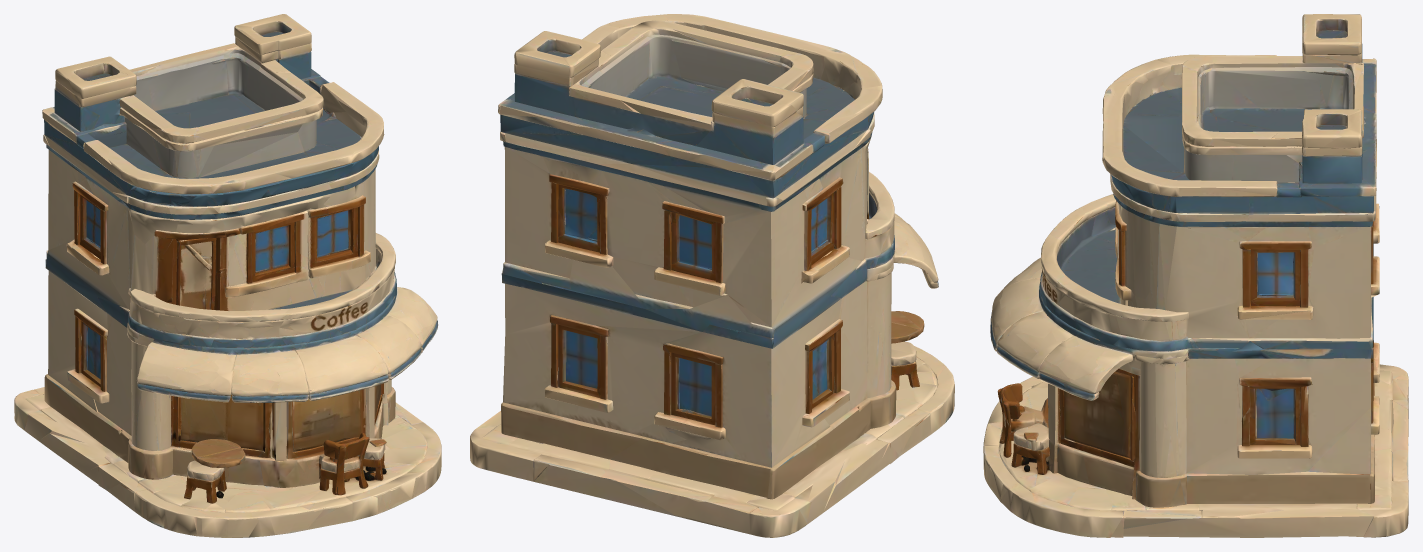
The model's file is upm_mv3pq2j62ir.glb.
3 views of the same model, side by side, from view 1: azimuth 30°, elevation 25°; view 2: azimuth 150°, elevation 25°; view 3: azimuth 270°, elevation 25° (orthographic). The views are drawn at different scales.
Size of the model in its own units: 1.63 by 1.9 by 1.89.
Materials: 1 (1 with a texture image).
